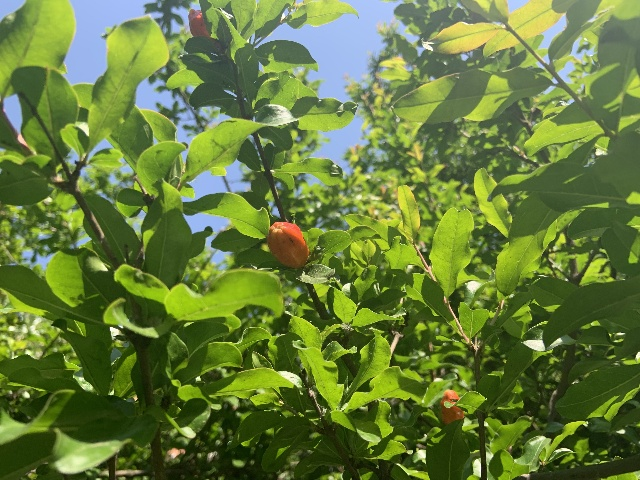bud: (267, 221, 309, 268), (440, 389, 463, 424), (188, 8, 209, 38)
